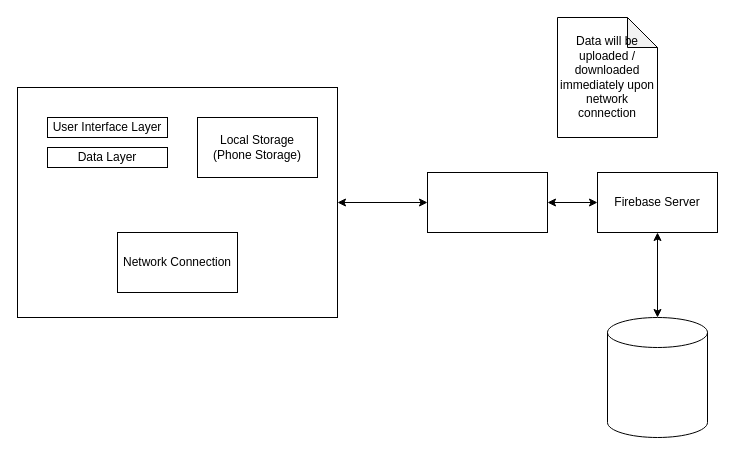
This 735x455 diagram has some shape labels left out. The box of each missing label's shape, as (x1, y1, x2, y2) in pixels:
Database (FireBase): (606, 316, 708, 438)
Local Connection (Wi-Fi): (426, 172, 548, 232)
RepQuest: (16, 86, 338, 318)
